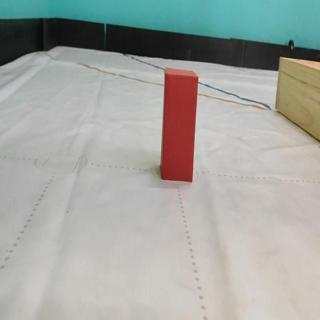redbox: (160, 65, 198, 182)
